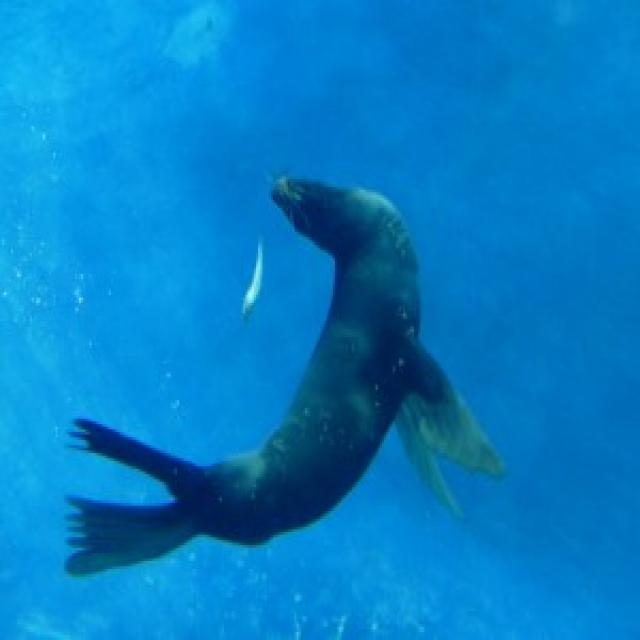Seal: (75, 169, 475, 585)
